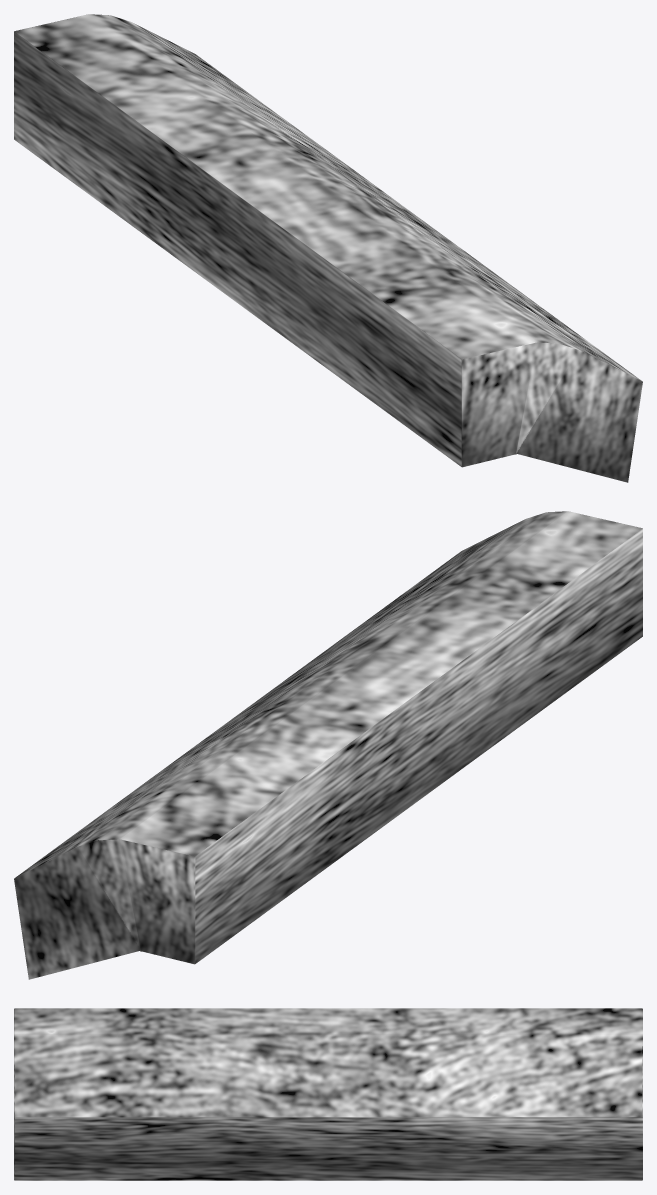
The model's file is techo_paja_1x3.fbx.
3 views of the same model, one above another, from view 1: azimuth 30°, elevation 25°; view 2: azimuth 150°, elevation 25°; view 3: azimuth 270°, elevation 25° (orthographic). The views are drawn at different scales.
Visible parts, largest first — view 1: techo_paja_1x3; view 2: techo_paja_1x3; view 3: techo_paja_1x3.
Boxes of the visible parts, x1,y1,x2,y2 form: techo_paja_1x3: [14, 14, 642, 482]; techo_paja_1x3: [14, 511, 642, 979]; techo_paja_1x3: [14, 1008, 642, 1180].
Bounding box in the file's own units: 70.05 × 60.63 × 300.
